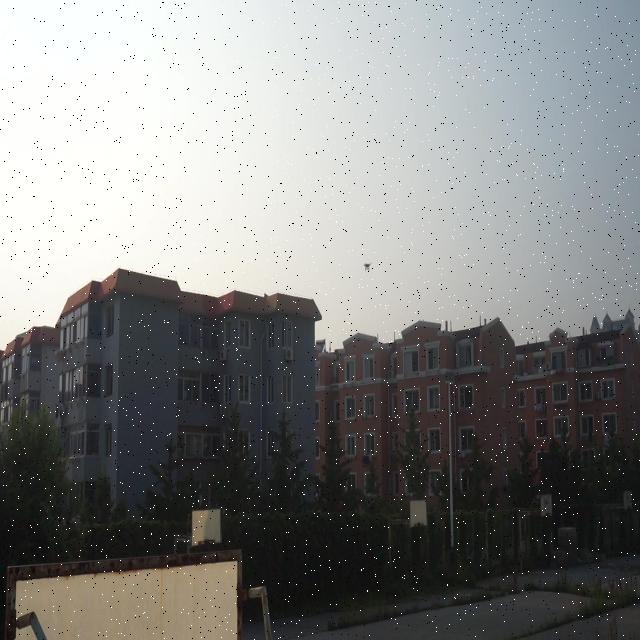UAV: (363, 262, 372, 272)
